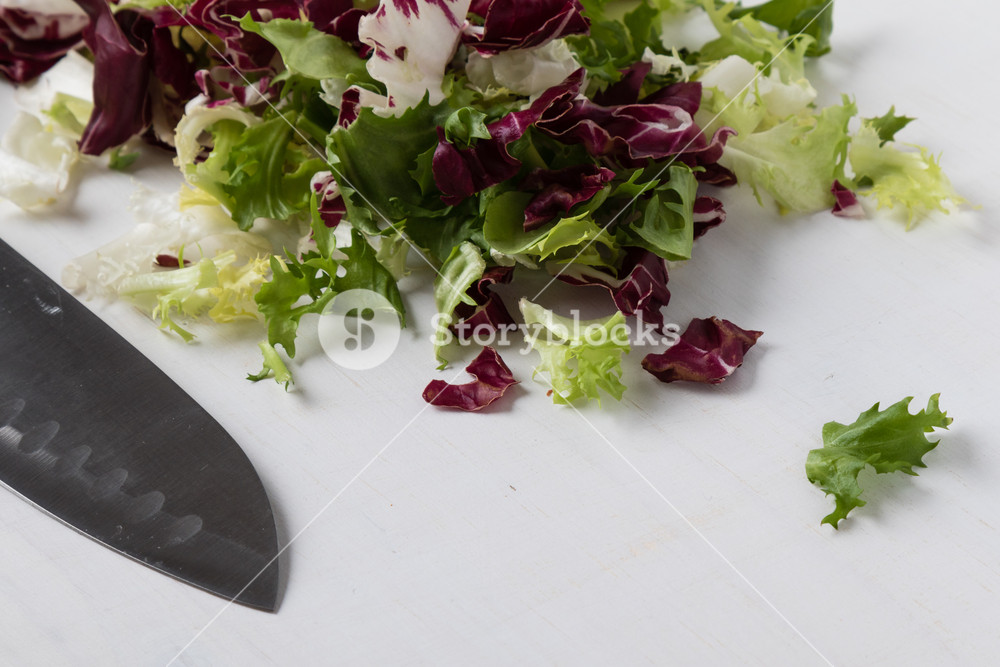chopped lettuce: (237, 24, 767, 311)
